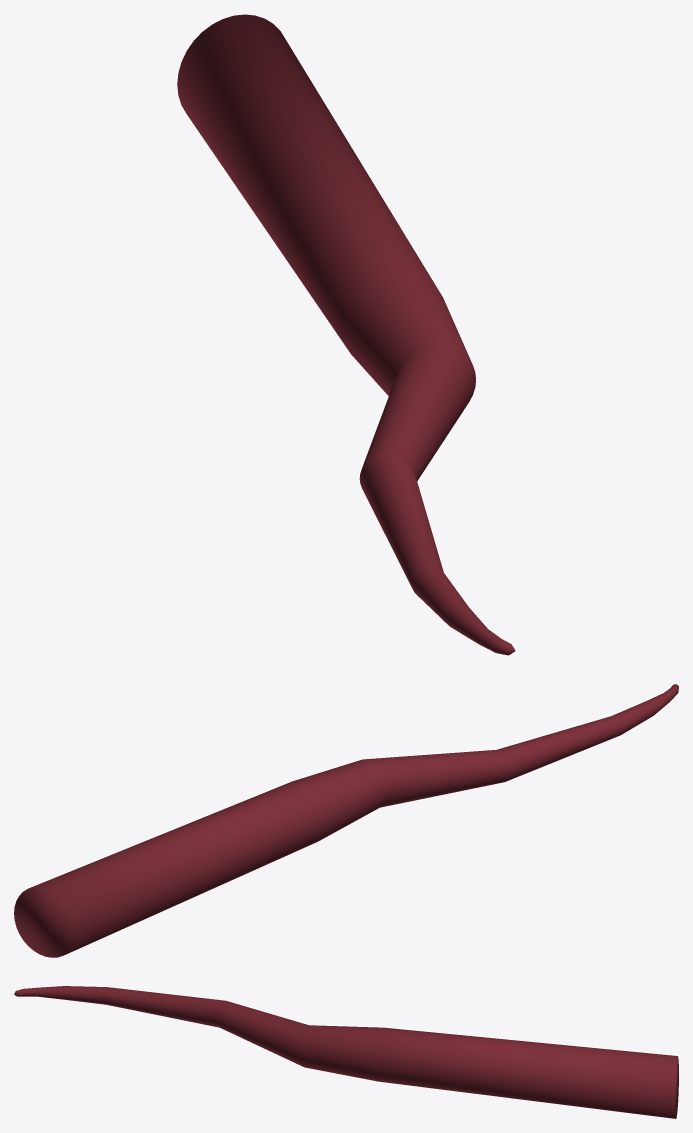
The model's file is rootacle.fbx.
3 renders of one model, top to bottom at view 1: azimuth 30°, elevation 25°; view 2: azimuth 150°, elevation 25°; view 3: azimuth 270°, elevation 25°, orthographic. The views are drawn at different scales.
Parts seen in each view (by area): view 1: Cone; view 2: Cone; view 3: Cone.
Boxes of the visible parts, x1,y1,x2,y2 form: Cone: [177, 14, 515, 655]; Cone: [14, 684, 678, 957]; Cone: [14, 986, 678, 1118].
Size of the model in its own units: 280 by 67.28 by 710.
